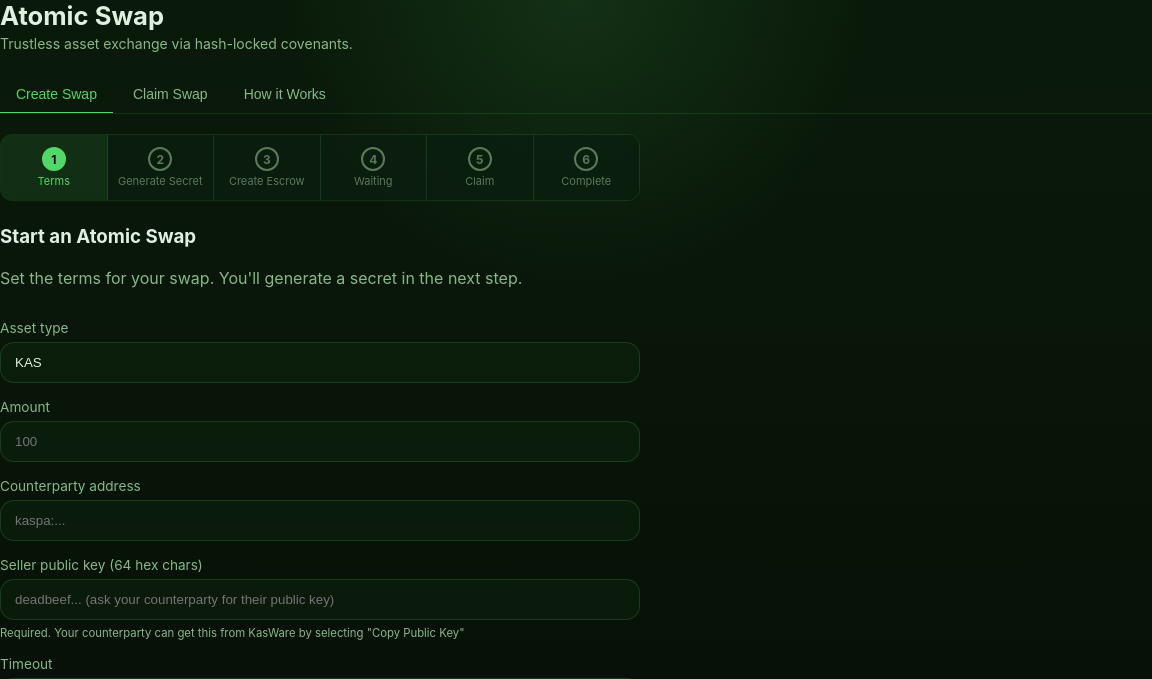
Test: SwapPage › How it Works tab shows explanation
Click the button "How it Works" at (285, 95), box x1=228 y1=76 x2=342 y2=114
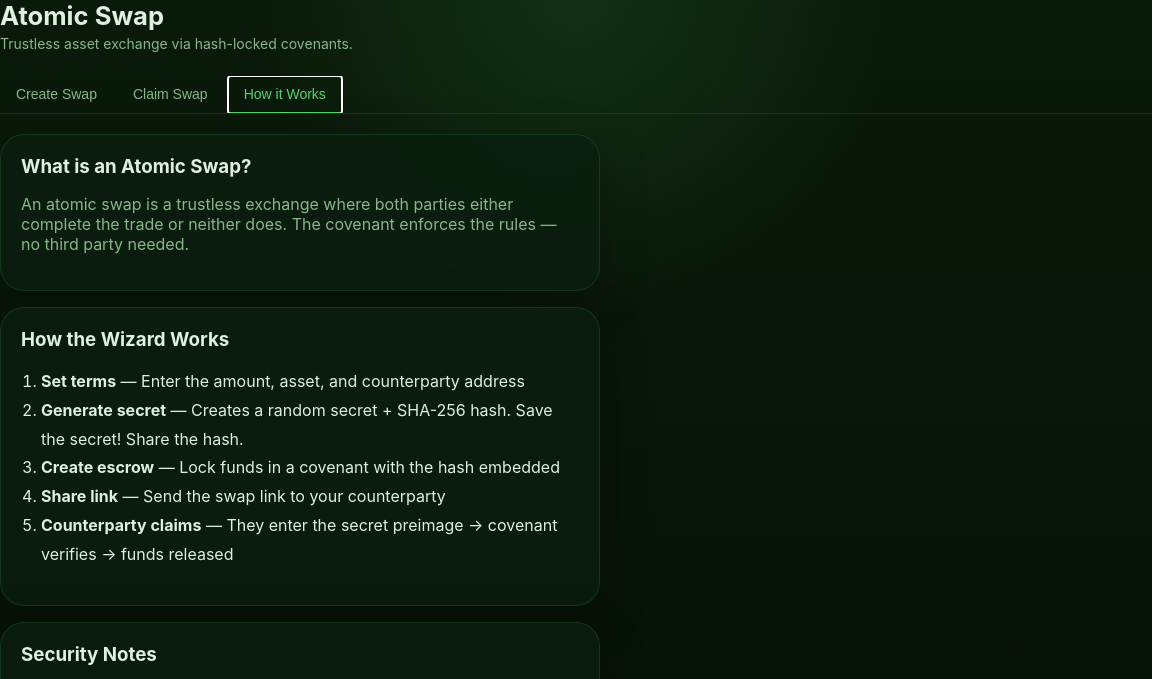
Check: the heading "What is an Atomic Swap?" is shown, box x1=21 y1=155 x2=252 y2=178
Check: the heading "How the Wizard Works" is shown, box x1=21 y1=328 x2=229 y2=351
Check: the heading "Security Notes" is shown, box x1=21 y1=643 x2=157 y2=666
